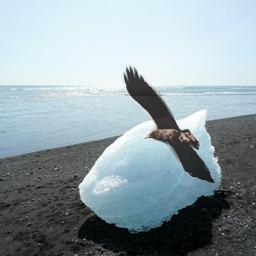Crow: (121, 64, 216, 186)
